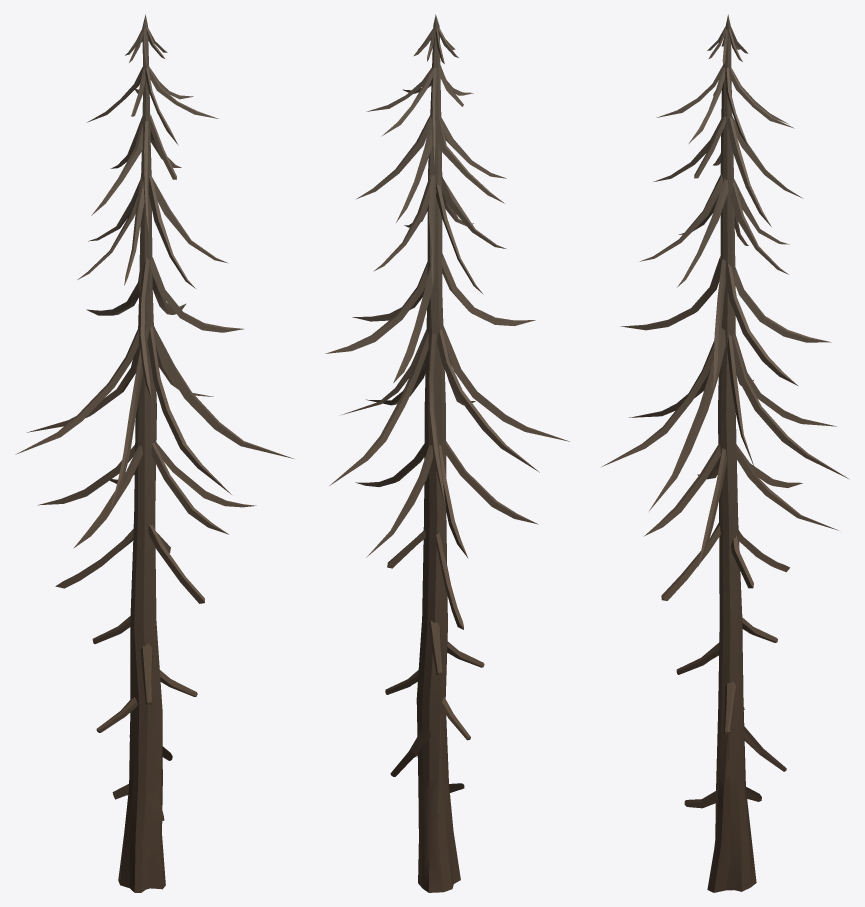
The model's file is PT_Pine_Tree_03_dead.fbx.
3 renders of one model, left to right at view 1: azimuth 30°, elevation 25°; view 2: azimuth 150°, elevation 25°; view 3: azimuth 270°, elevation 25°, orthographic.
Parts seen in each view (by area): view 1: PT_Pine_Tree_03_dead_LOD0; view 2: PT_Pine_Tree_03_dead_LOD0; view 3: PT_Pine_Tree_03_dead_LOD0.
Part boxes in pixels (box(x1,y1,x2,y2)): PT_Pine_Tree_03_dead_LOD0: box(15, 14, 293, 892); PT_Pine_Tree_03_dead_LOD0: box(325, 14, 569, 892); PT_Pine_Tree_03_dead_LOD0: box(602, 14, 849, 892).
Size of what is drawn, in the model's own units: 249 by 903 by 235.
